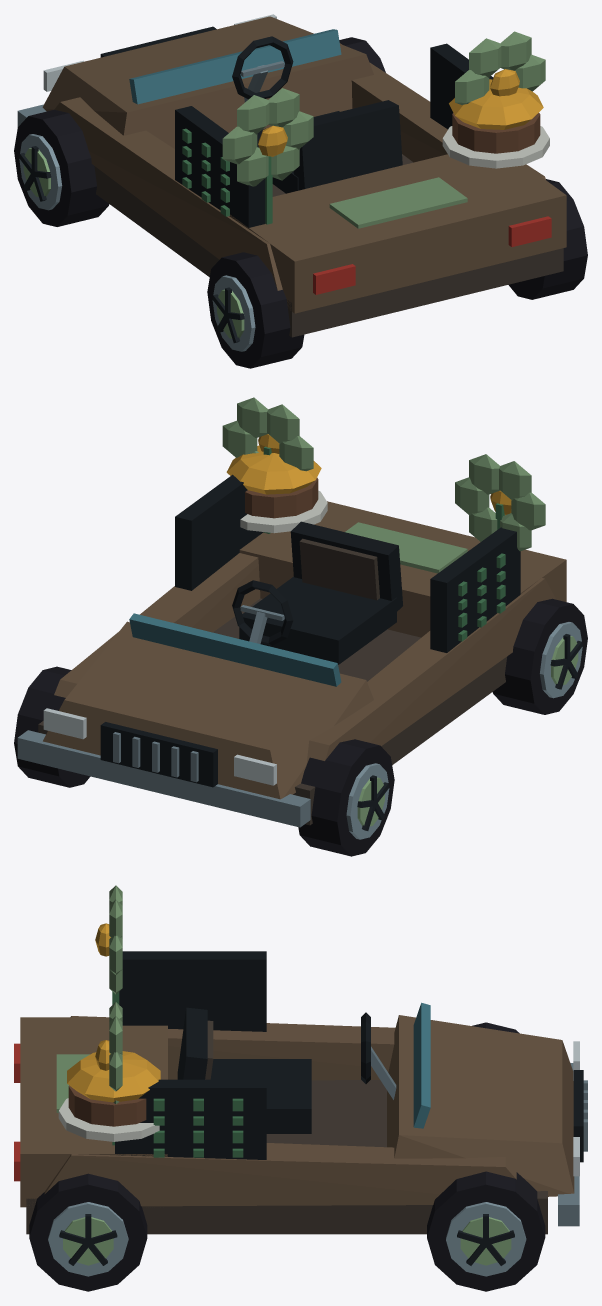
File: kart.glb
The picture shows the model from 3 angles, top to bottom: view 1: azimuth 30°, elevation 25°; view 2: azimuth 150°, elevation 25°; view 3: azimuth 270°, elevation 25°; orthographic projection. The views are drawn at different scales.
Parts seen in each view (by area): view 1: identity-sedan-sedan-road-car-body, identity-sedan-motif-flowers, identity-sedan-driver-cockpit, identity-sedan-motif-matrix, wheel-front-left, wheel-rear-left, identity-sedan-motif-food, wheel-rear-right, wheel-front-right; view 2: identity-sedan-sedan-road-car-body, identity-sedan-driver-cockpit, identity-sedan-motif-matrix, identity-sedan-motif-flowers, wheel-front-left, wheel-rear-left, identity-sedan-motif-food, wheel-front-right; view 3: identity-sedan-sedan-road-car-body, identity-sedan-motif-matrix, wheel-front-right, wheel-rear-right, identity-sedan-driver-cockpit, identity-sedan-motif-food, identity-sedan-motif-flowers.
Part boxes in pixels (x1,y1,x2,y2): identity-sedan-sedan-road-car-body: (17, 14, 566, 337); identity-sedan-motif-flowers: (222, 31, 545, 224); identity-sedan-driver-cockpit: (232, 36, 402, 193); identity-sedan-motif-matrix: (175, 43, 493, 227); wheel-front-left: (14, 109, 109, 226); wheel-rear-left: (207, 252, 304, 368); identity-sedan-motif-food: (442, 79, 549, 168); wheel-rear-right: (508, 179, 587, 299); wheel-front-right: (339, 37, 385, 72); identity-sedan-sedan-road-car-body: (17, 501, 566, 827); identity-sedan-driver-cockpit: (232, 521, 402, 664); identity-sedan-motif-matrix: (175, 474, 520, 652); identity-sedan-motif-flowers: (222, 397, 545, 551); wheel-front-left: (298, 739, 394, 856); wheel-rear-left: (492, 598, 587, 714); identity-sedan-motif-food: (226, 445, 327, 533); wheel-front-right: (14, 666, 90, 787); identity-sedan-sedan-road-car-body: (14, 1002, 587, 1234); identity-sedan-motif-matrix: (115, 951, 266, 1159); wheel-front-right: (427, 1171, 545, 1291); wheel-rear-right: (29, 1173, 147, 1291); identity-sedan-driver-cockpit: (177, 1007, 396, 1133); identity-sedan-motif-food: (58, 1051, 160, 1141); identity-sedan-motif-flowers: (95, 885, 122, 1145).
Bounding box in the file's own units: 2.07 × 1.46 × 2.92.
